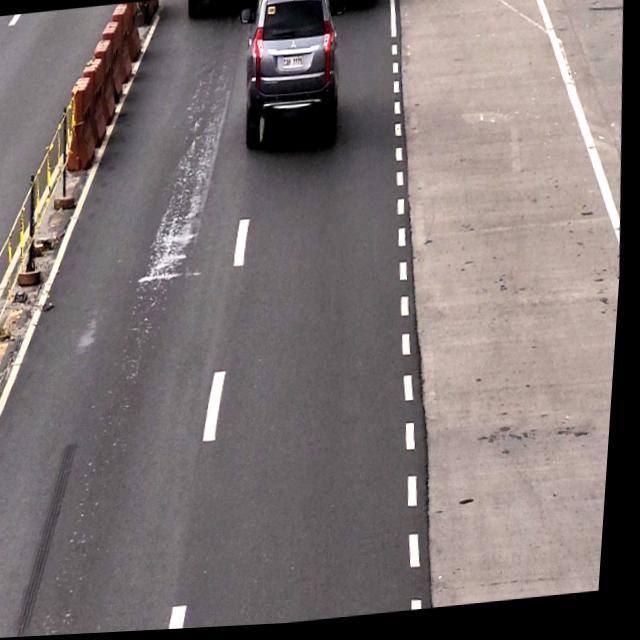Car: (237, 0, 351, 158)
License-Plate: (283, 57, 306, 74)
